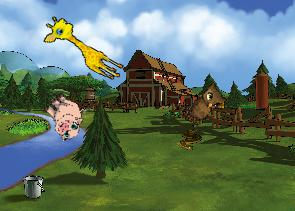giraffe: (38, 12, 131, 83)
owl: (184, 79, 231, 133)
pig: (36, 88, 92, 144)
